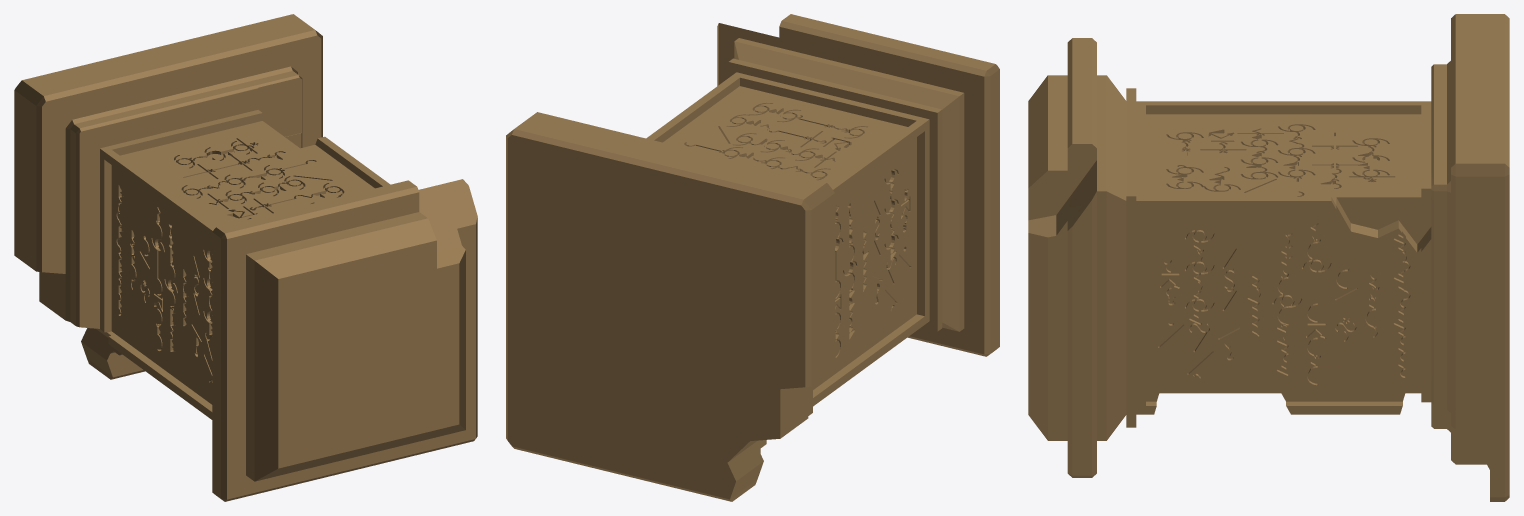
File: YAZIT 02 v3 v2.fbx
The picture shows the model from 3 angles, left to right: view 1: azimuth 30°, elevation 25°; view 2: azimuth 150°, elevation 25°; view 3: azimuth 270°, elevation 25°; orthographic projection. The views are drawn at different scales.
Visible parts, largest first — view 1: Body6; view 2: Body6; view 3: Body6.
Part boxes in pixels (<box>): Body6: <box>14,14,477,501</box>; Body6: <box>506,14,999,501</box>; Body6: <box>1028,14,1509,501</box>.
Size of the model in its own units: 190 by 190 by 245.
